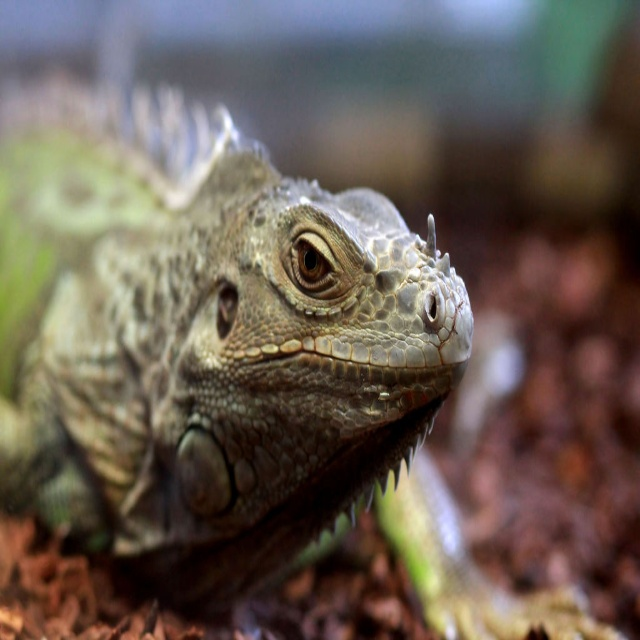Lizard: (0, 70, 467, 602)
